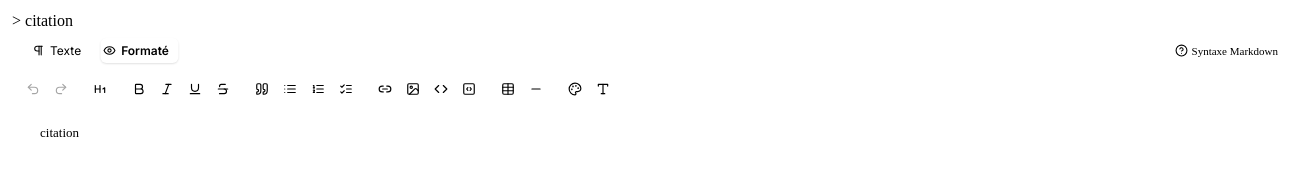
MarkdownEditor mode Formaté › retire liste et citation avec l'option Paragraphe
Click the button titled "Style de bloc" at (100, 89), box [87,76,113,102]
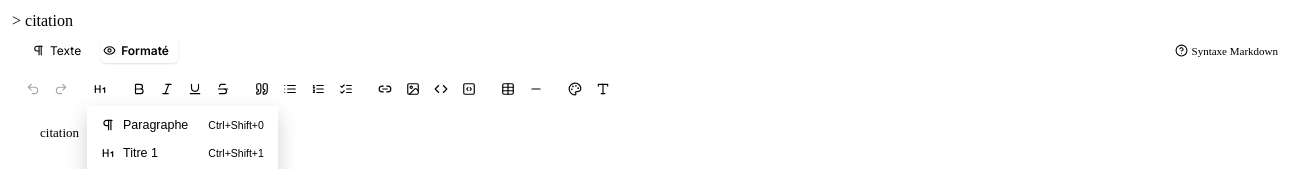
Click the button "Paragraphe Ctrl+Shift+0" at (182, 125), box [93,112,272,138]
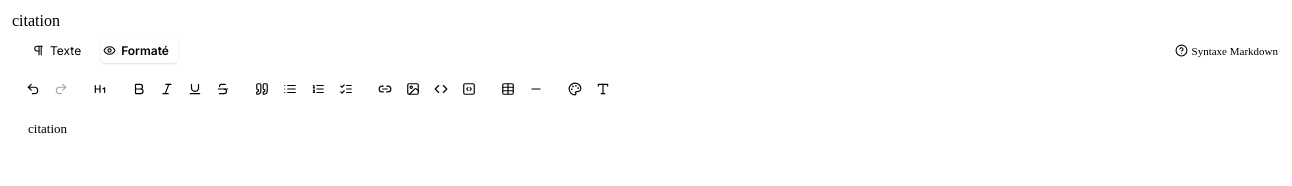
expect the text with test id "value" reads "citation": met, box [12,12,60,29]
